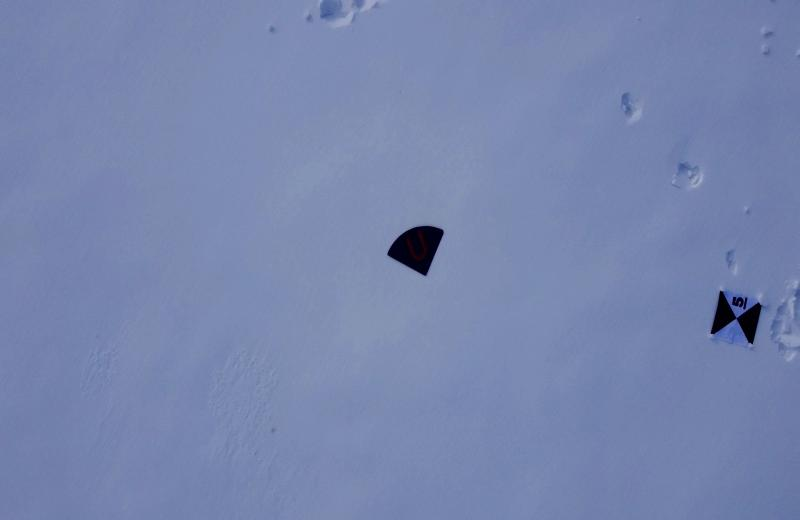Quarter Circle: (389, 217, 446, 274)
